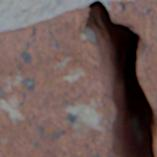broken_brick: (0, 5, 112, 156), (108, 0, 156, 116), (154, 133, 156, 148)
crack: (82, 0, 156, 156)
